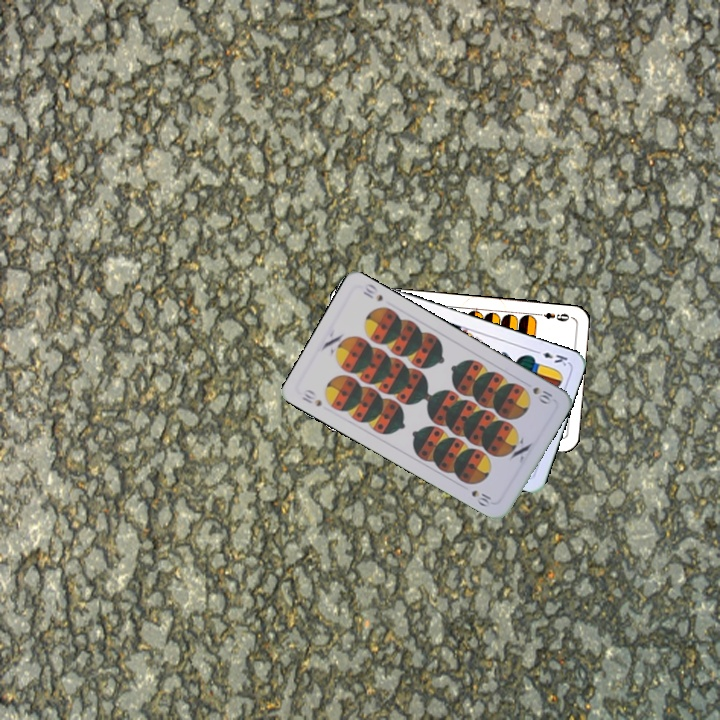E9: (533, 309, 573, 324)
EK: (530, 346, 570, 369)
S10: (528, 383, 555, 407), (298, 385, 324, 409)
